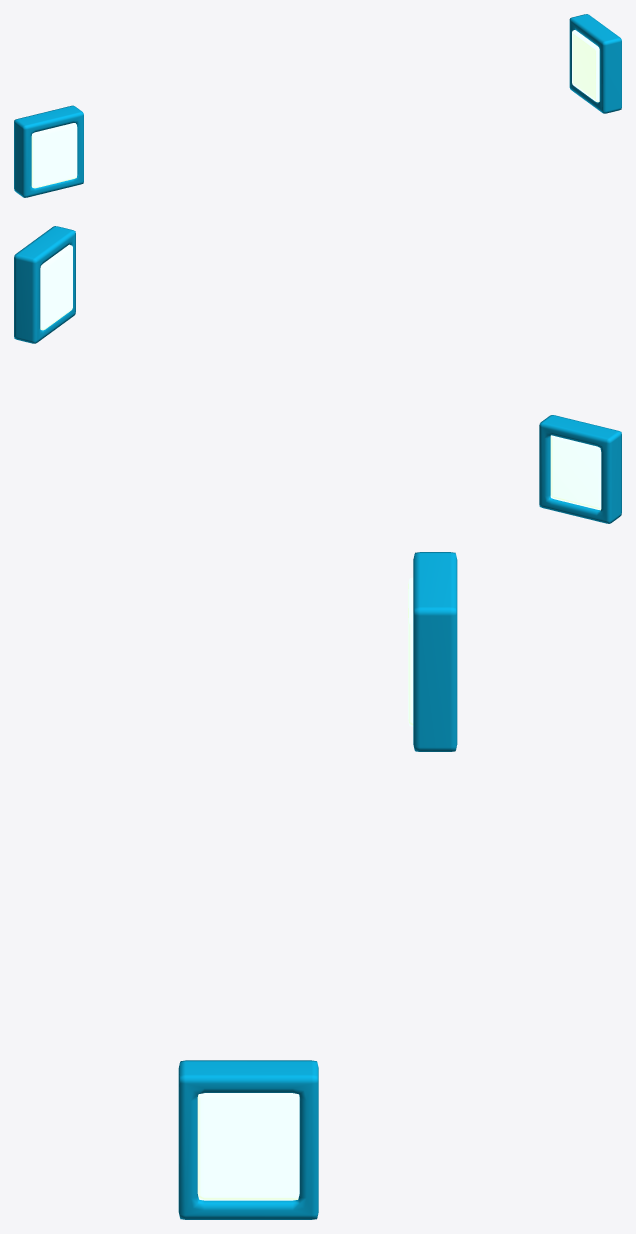
File: SM_Clay_Window_05.fbx
3 renders of one model, top to bottom at view 1: azimuth 30°, elevation 25°; view 2: azimuth 150°, elevation 25°; view 3: azimuth 270°, elevation 25°, orthographic. The views are drawn at different scales.
Parts seen in each view (by area): view 1: SM_Clay_Window_05; view 2: SM_Clay_Window_05; view 3: SM_Clay_Window_05.
Boxes of the visible parts, left/top/right/bottom form: SM_Clay_Window_05: left=14, top=14, right=621, bottom=197; SM_Clay_Window_05: left=14, top=226, right=621, bottom=523; SM_Clay_Window_05: left=178, top=552, right=457, bottom=1219.
Size of the model in its own units: 2.61 by 0.3321 by 0.5827.
